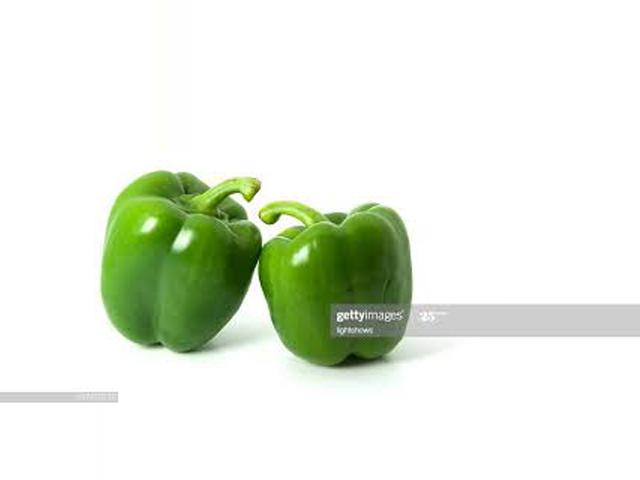bell_pepper: (100, 158, 256, 377)
